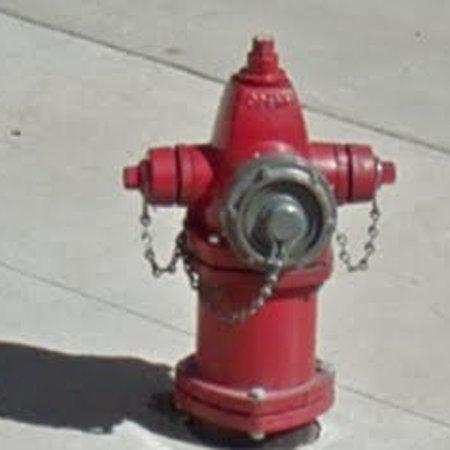a fire hydrant: (123, 38, 397, 438)
